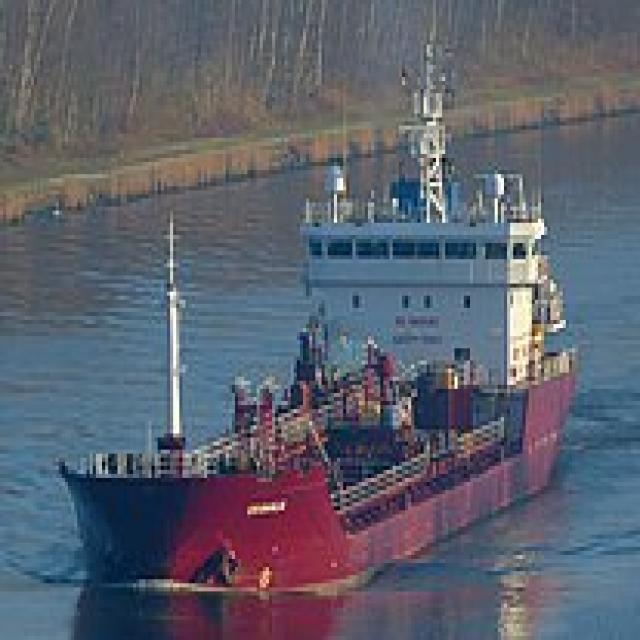Tanker: (53, 29, 572, 592)
